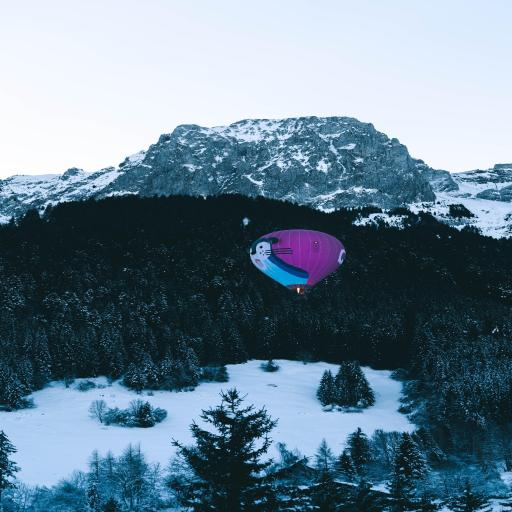hot air ballon: (249, 230, 347, 300)
